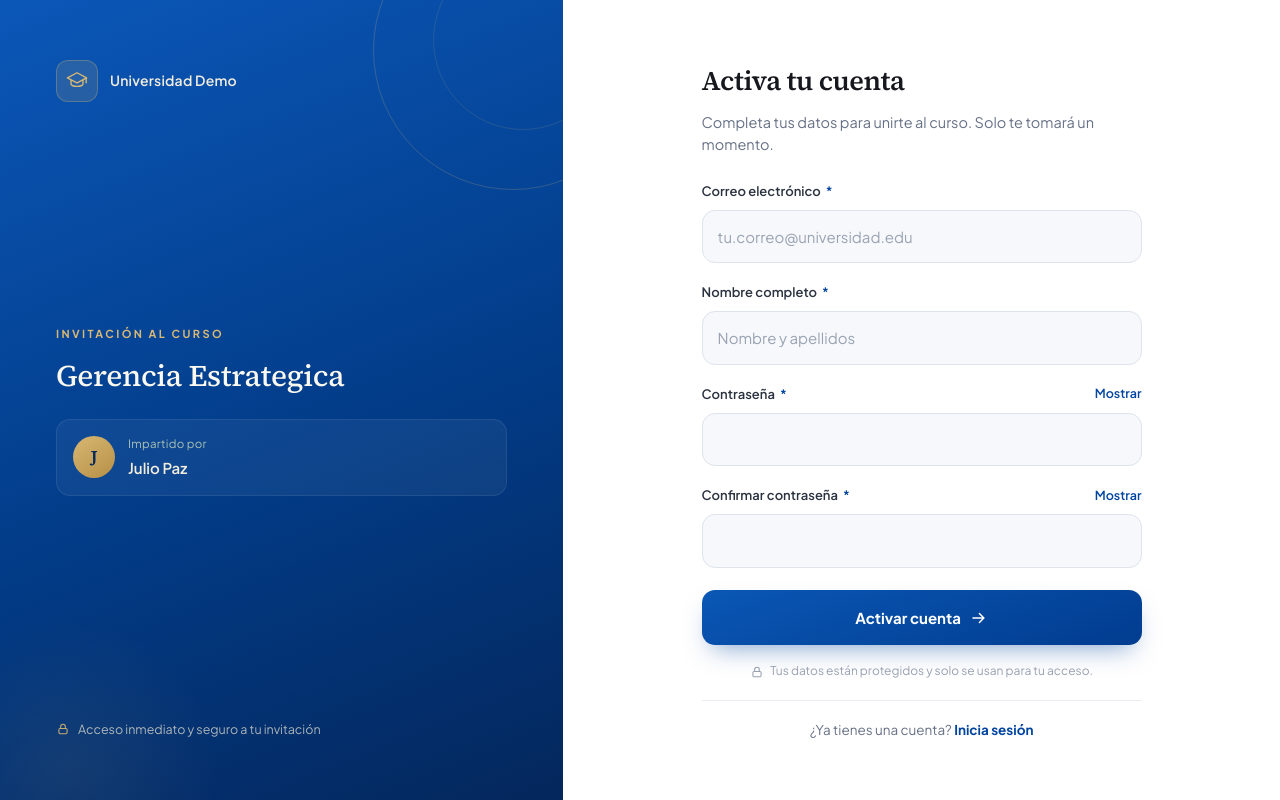
Test case: StudentJoinPage › offers an in-place sign-in toggle on the course access activation form and switches to email+password only
The width and height of the screenshot is (1280, 800).
expect the button "Activar cuenta" is shown: met, box [702,590,1142,646]
Click the button "Inicia sesión" at (994, 730), box [954,719,1034,742]
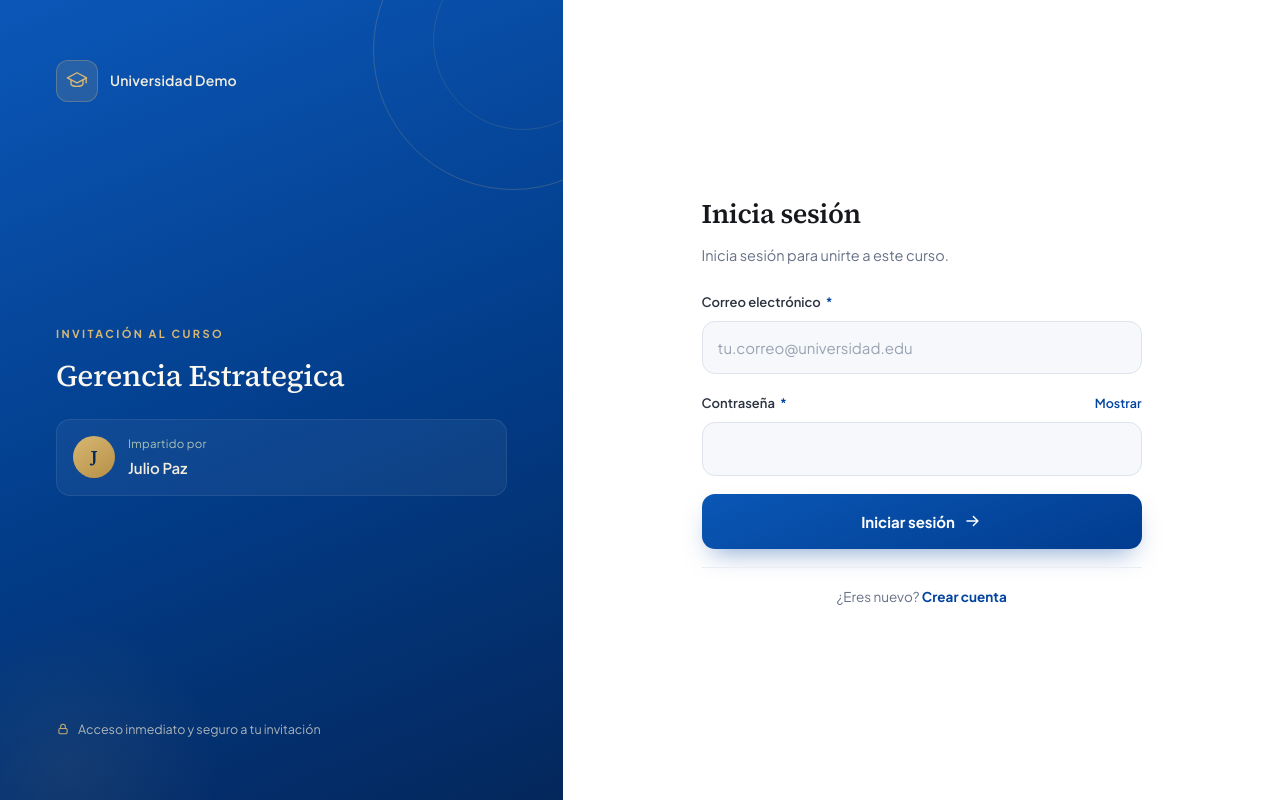
expect the button "Iniciar sesión" is shown: met, box [702,494,1142,549]
expect the text "Nombre completo" is gone: met
expect the number of password fields is 1: met, box [702,422,1142,476]
